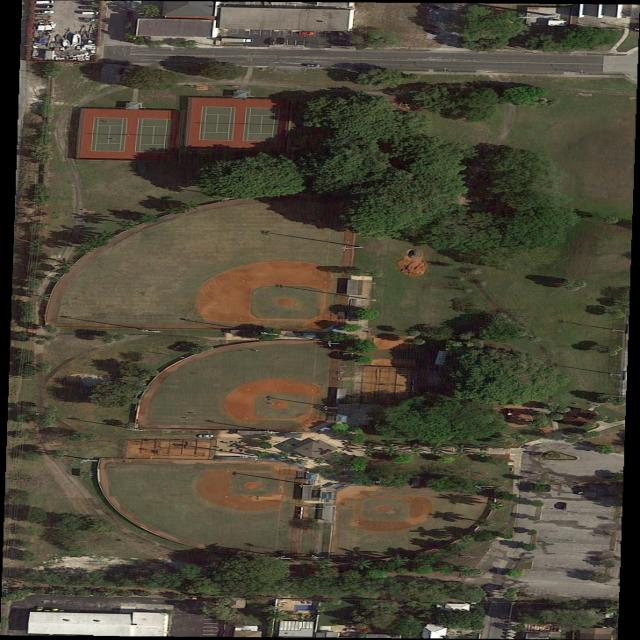large-vehicle: (222, 38, 255, 43)
ship: (71, 32, 83, 46), (62, 38, 71, 47)
small-vehicle: (195, 433, 214, 439), (36, 9, 55, 14), (36, 4, 54, 9), (305, 63, 322, 68), (299, 31, 315, 36), (558, 503, 568, 510), (83, 17, 97, 22), (81, 11, 98, 15), (79, 6, 96, 10), (80, 1, 97, 5), (269, 38, 277, 45), (277, 38, 286, 44)
